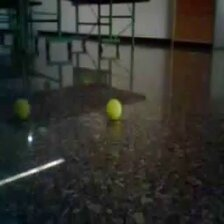tennis: (13, 97, 30, 121), (105, 98, 122, 122)
